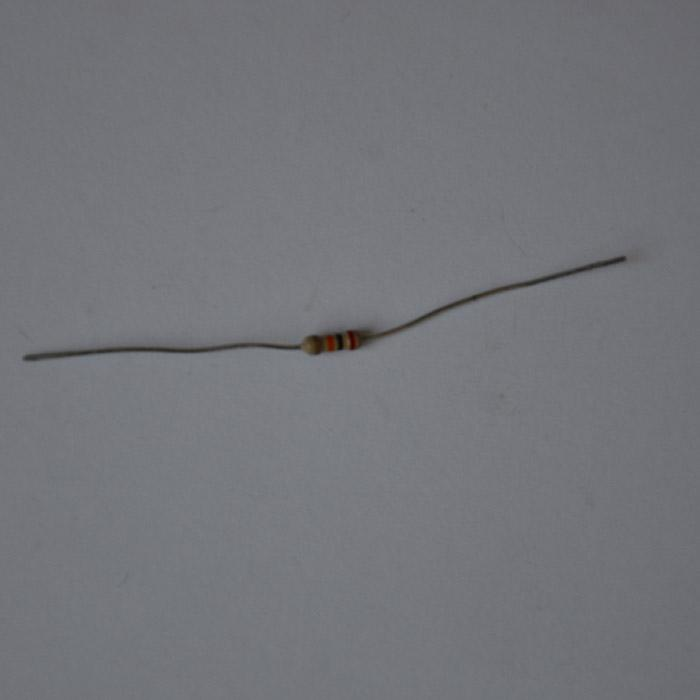resistor: (301, 329, 361, 354)
